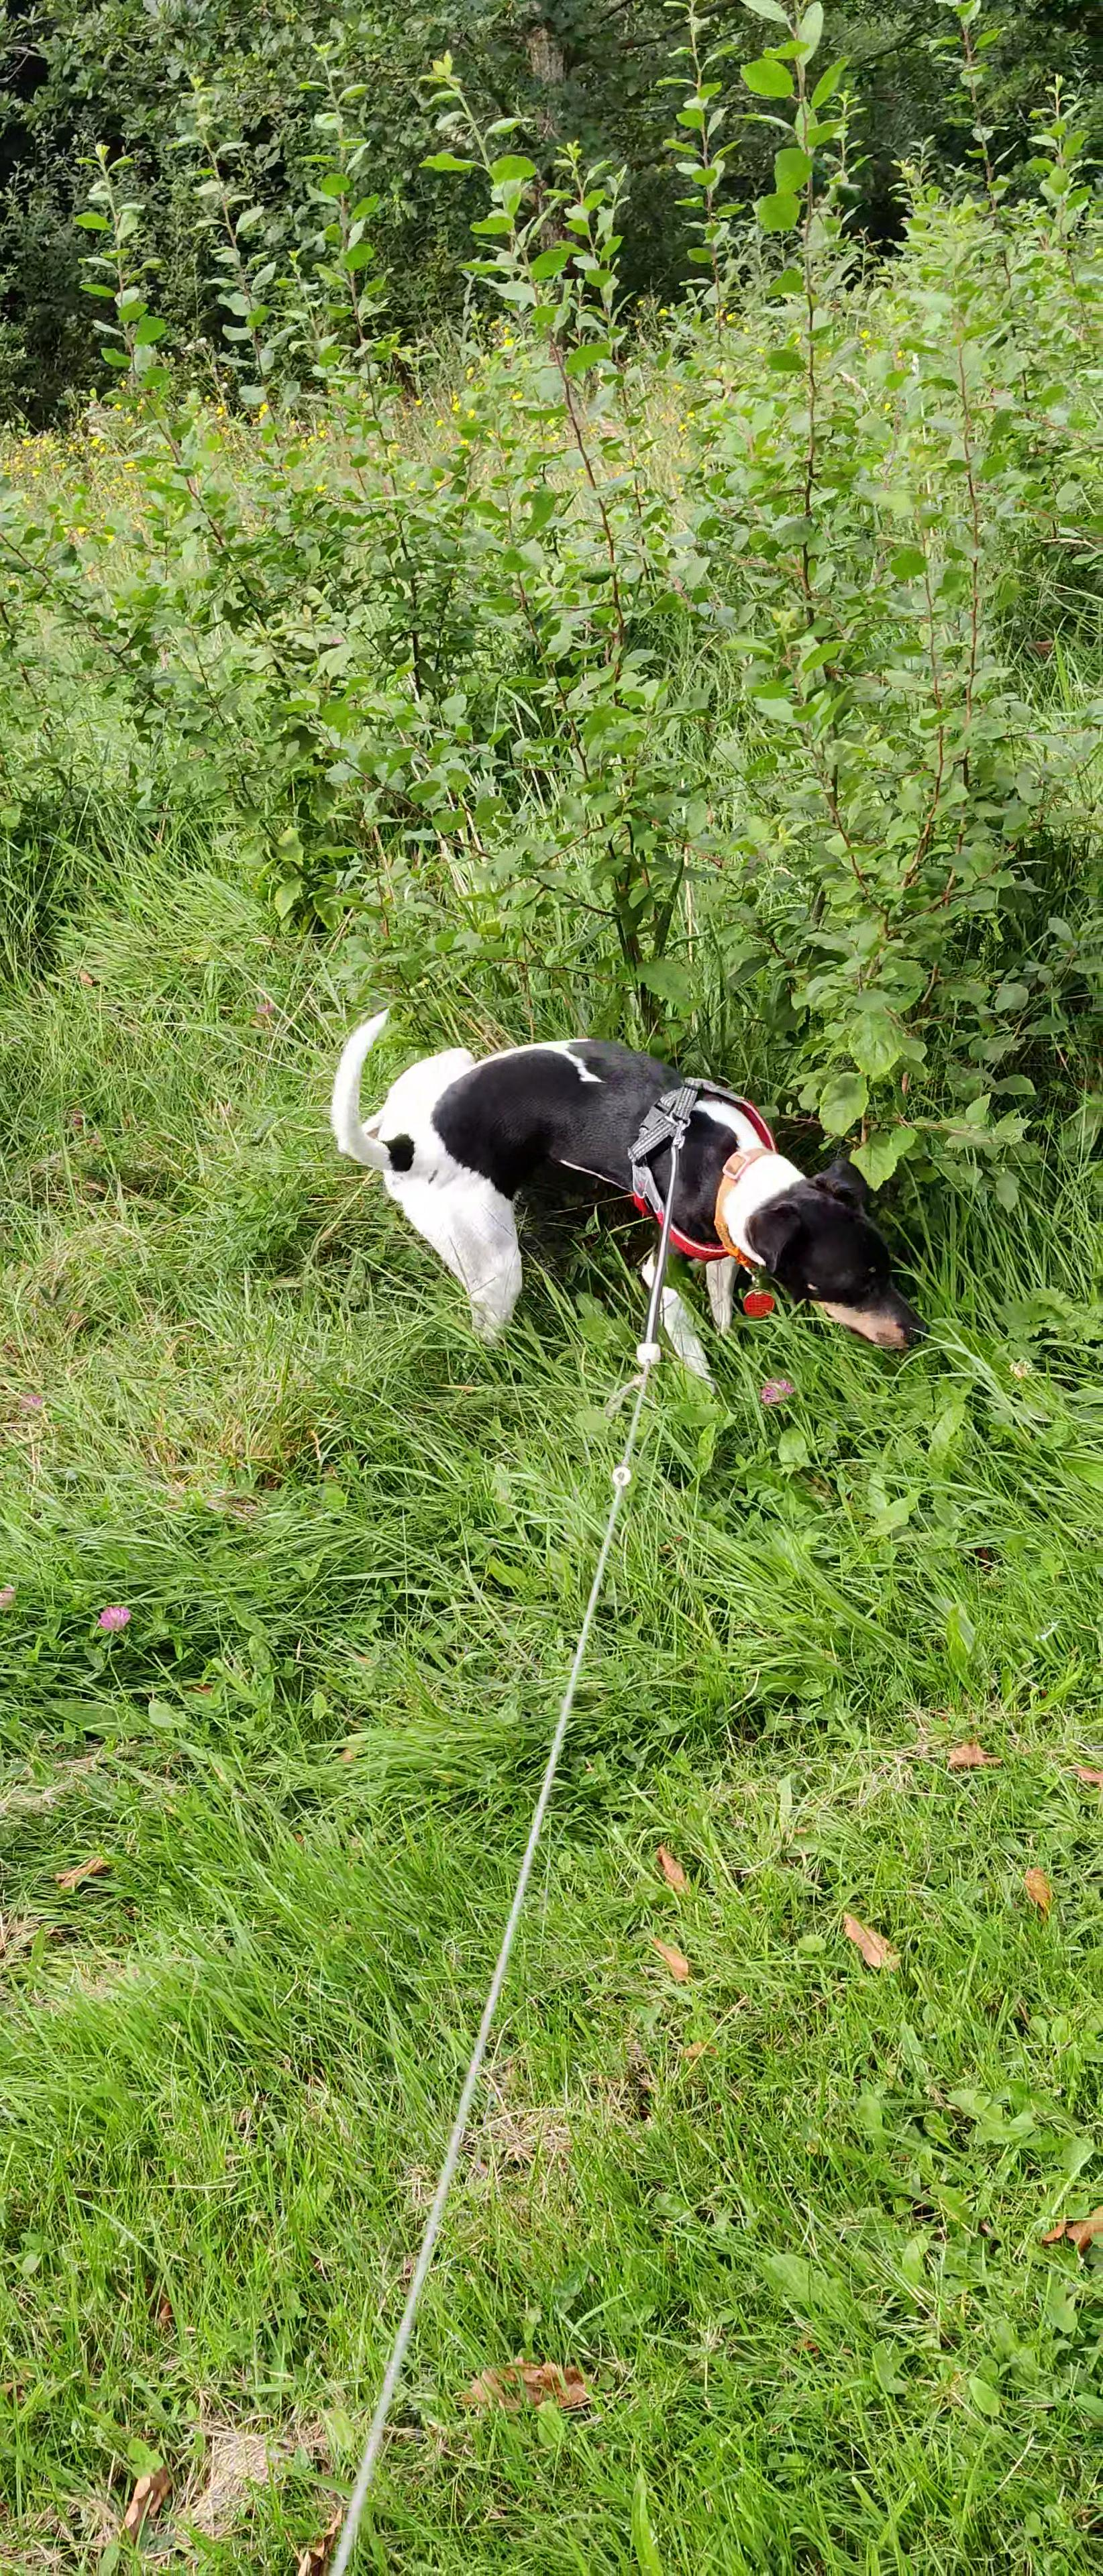Dog: (325, 991, 940, 1403)
